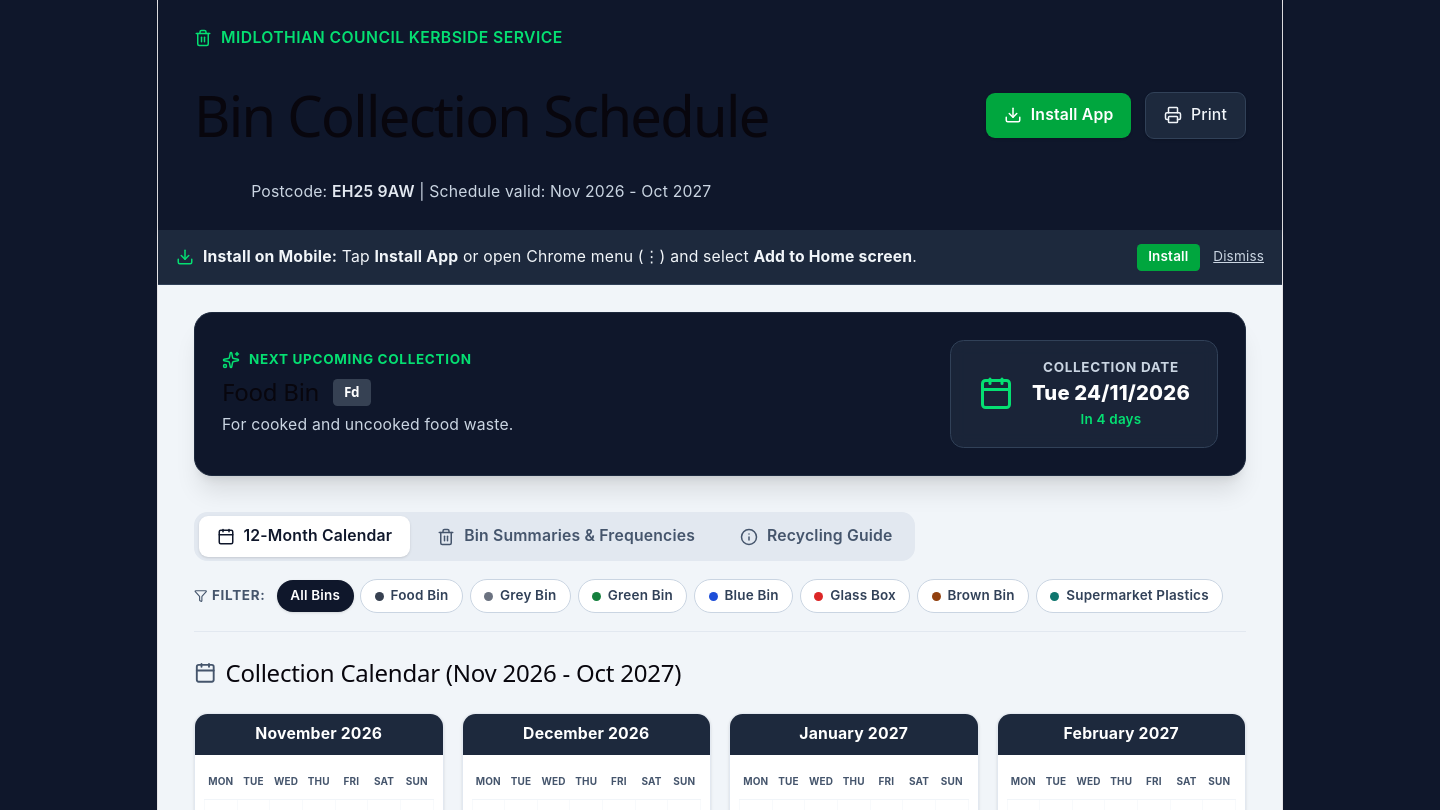
Scenario: App interactions › exposes selected tab and filter state to assistive technology
Click the button "Blue Bin": {"x": 744, "y": 596} x1=694 y1=579 x2=793 y2=613
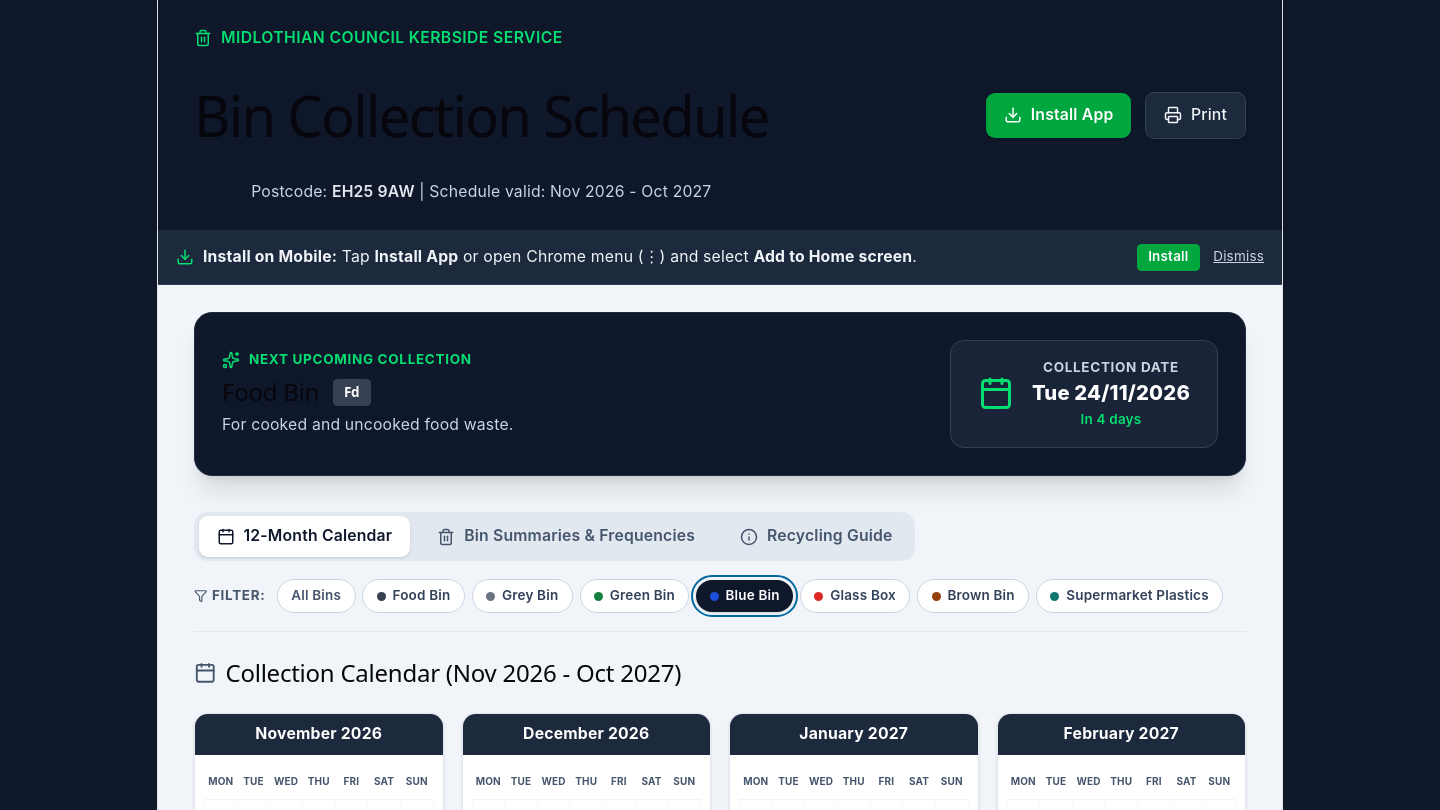
Expected: the button "Blue Bin" is pressed, x1=696 y1=580 x2=793 y2=612
Click the tab "Recycling Guide": {"x": 816, "y": 537} x1=722 y1=516 x2=910 y2=557
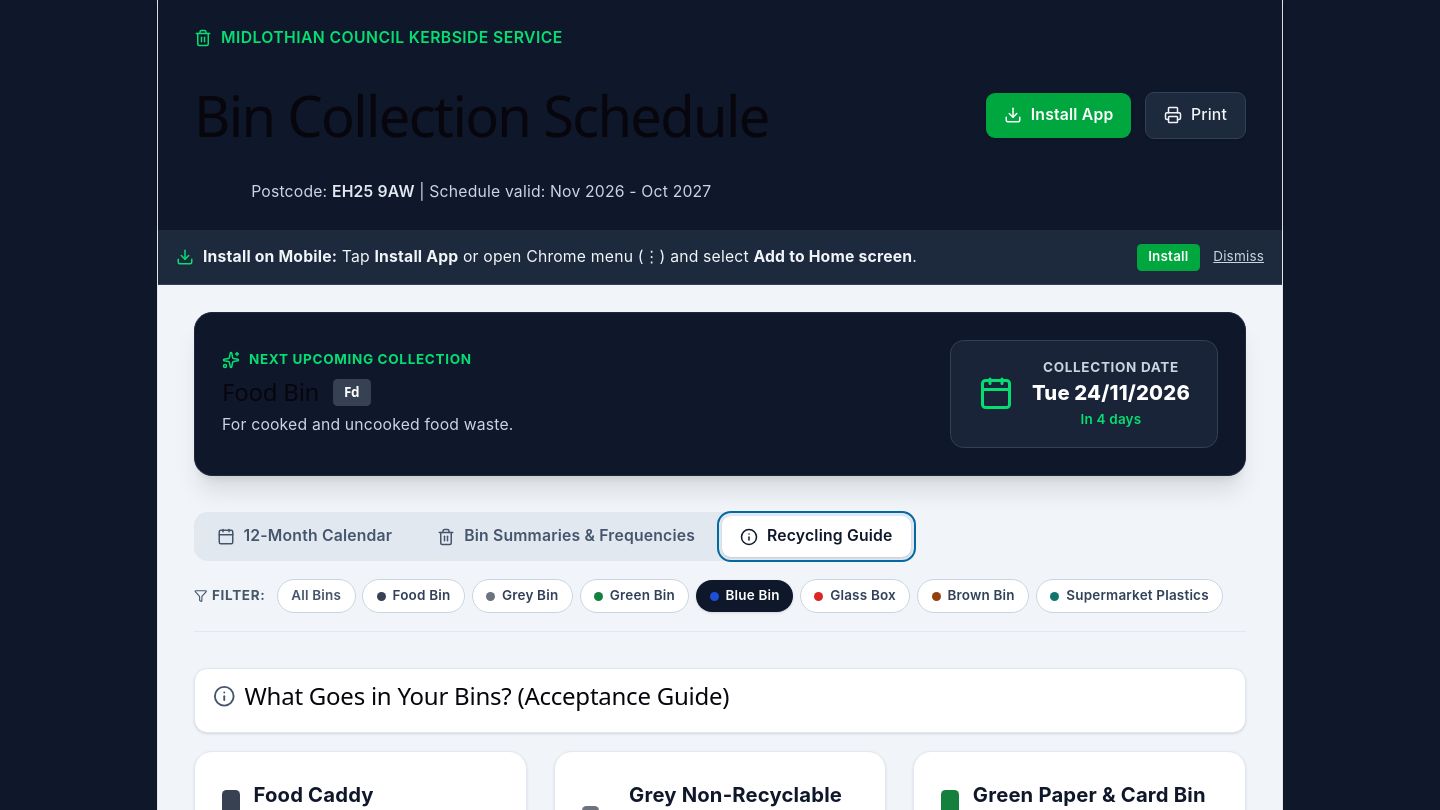
Expected: the tab "Recycling Guide" is selected, x1=722 y1=516 x2=910 y2=557
